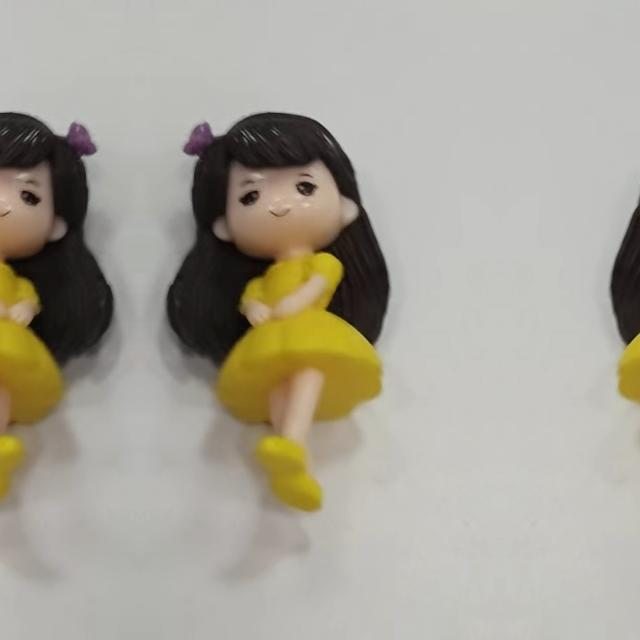woman dress: (220, 242, 392, 512), (0, 242, 60, 512), (608, 242, 640, 512)
woman head: (173, 105, 375, 258), (0, 104, 107, 257), (625, 104, 640, 257)
